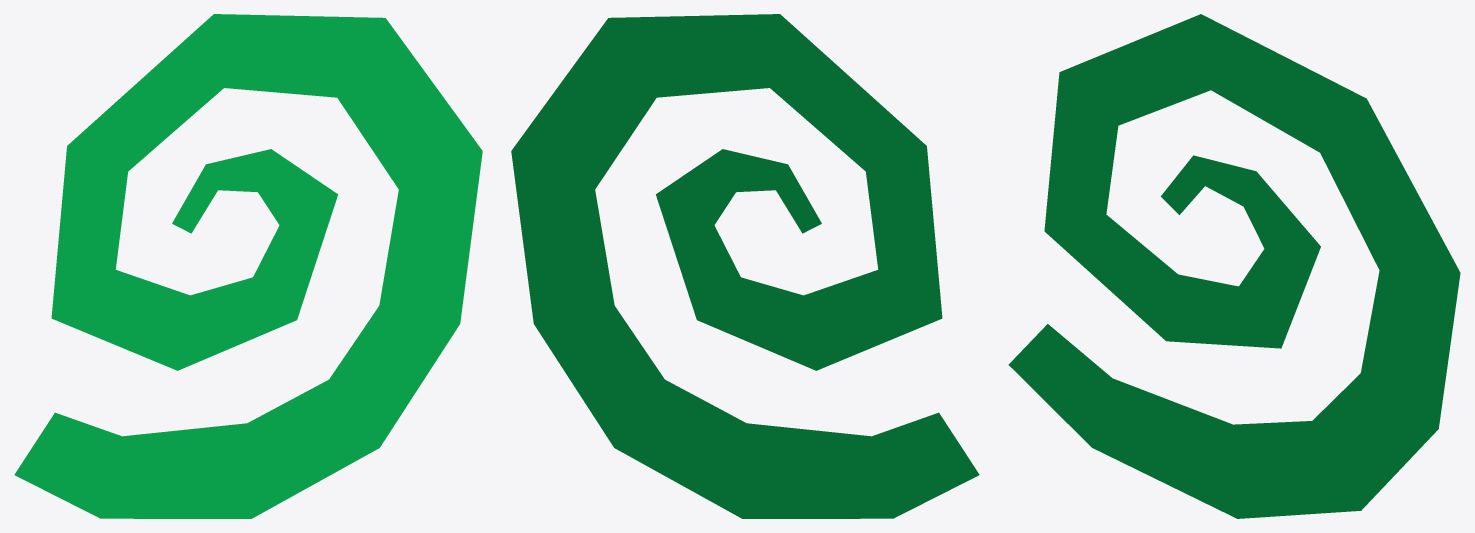
File: CavePaintingSpiral_2.glb
3 views of the same model, side by side, from view 1: azimuth 30°, elevation 25°; view 2: azimuth 150°, elevation 25°; view 3: azimuth 330°, elevation 25° (orthographic). The views are drawn at different scales.
Parts seen in each view (by area): view 1: CavePaintingSpiral; view 2: CavePaintingSpiral; view 3: CavePaintingSpiral.
Boxes of the visible parts, x1=… form: CavePaintingSpiral: x1=14, y1=14, x2=482, y2=518; CavePaintingSpiral: x1=511, y1=14, x2=979, y2=518; CavePaintingSpiral: x1=1008, y1=14, x2=1460, y2=518.
Bounding box in the file's own units: 0.1439 × 0.1509 × 8.75e-09.
